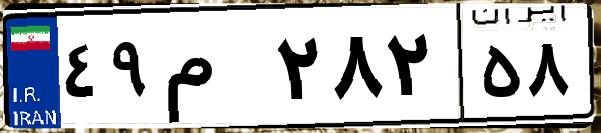2: (270, 28, 330, 110), (385, 28, 445, 110)
4: (57, 26, 110, 100)
5: (475, 38, 525, 113)
8: (330, 28, 385, 110), (525, 38, 570, 115)
9: (110, 28, 158, 98)
م: (158, 20, 270, 120)
